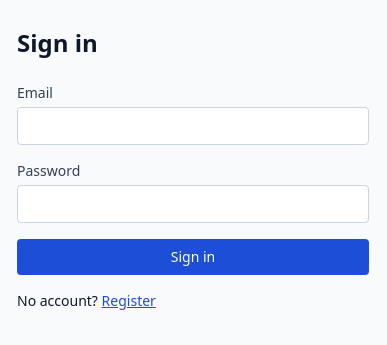
login flow › shows the server message on bad credentials
The image size is (387, 345).
Step 1. Type "a@x.kz" into the field labelled "Email" → (193, 126), box x1=17 y1=107 x2=369 y2=145
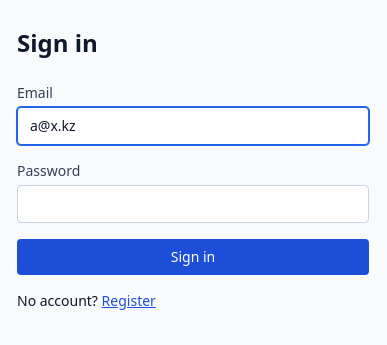
Step 2. Type "wrong" into the password field labelled "Password" → (193, 204), box x1=17 y1=185 x2=369 y2=223
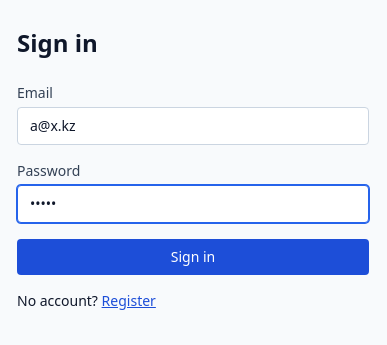
Step 3. Click the button "Sign in" → (193, 257), box x1=17 y1=239 x2=369 y2=275
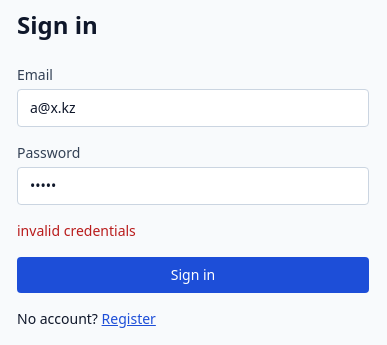
Now the message "invalid credentials" is shown, box x1=17 y1=221 x2=136 y2=240
